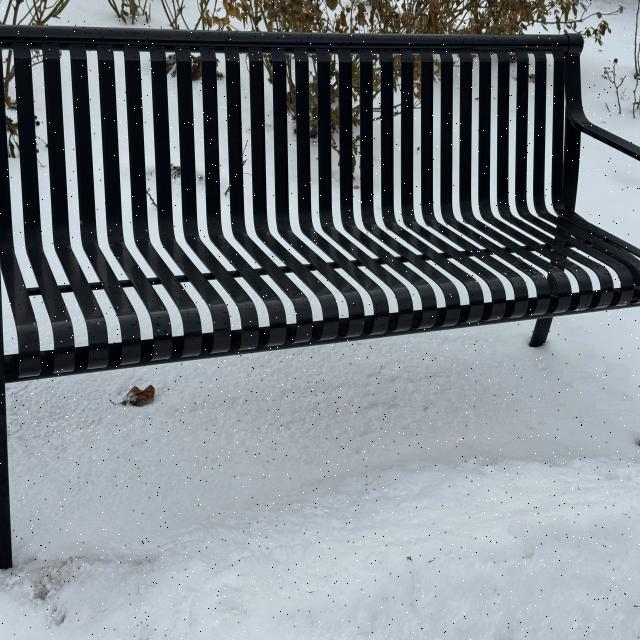Bench: (0, 22, 638, 567)
